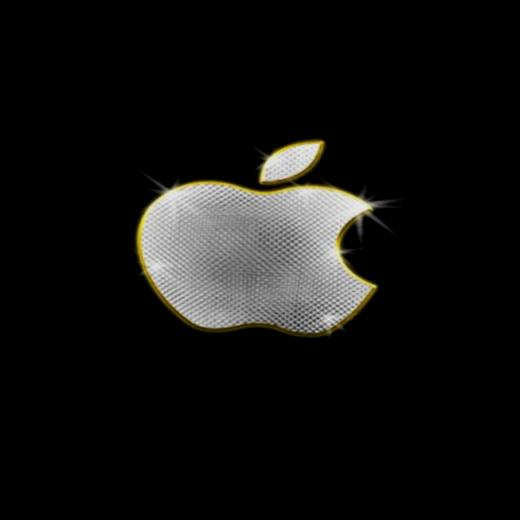Apple: (142, 130, 408, 328)
